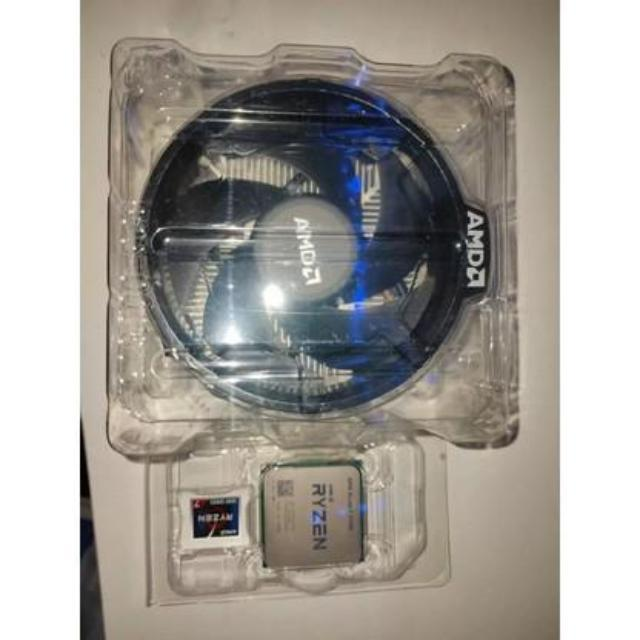CPU: (260, 465, 368, 567)
CPU_Fan: (144, 48, 487, 434)
